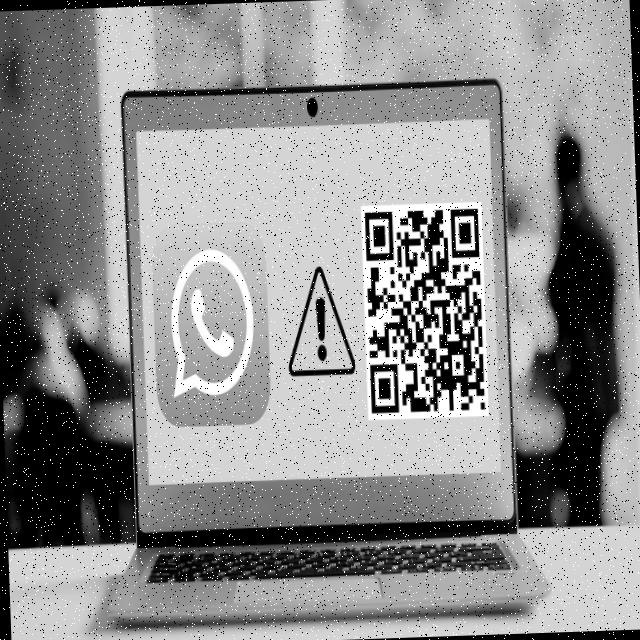QR-codes: (362, 205, 486, 415)
